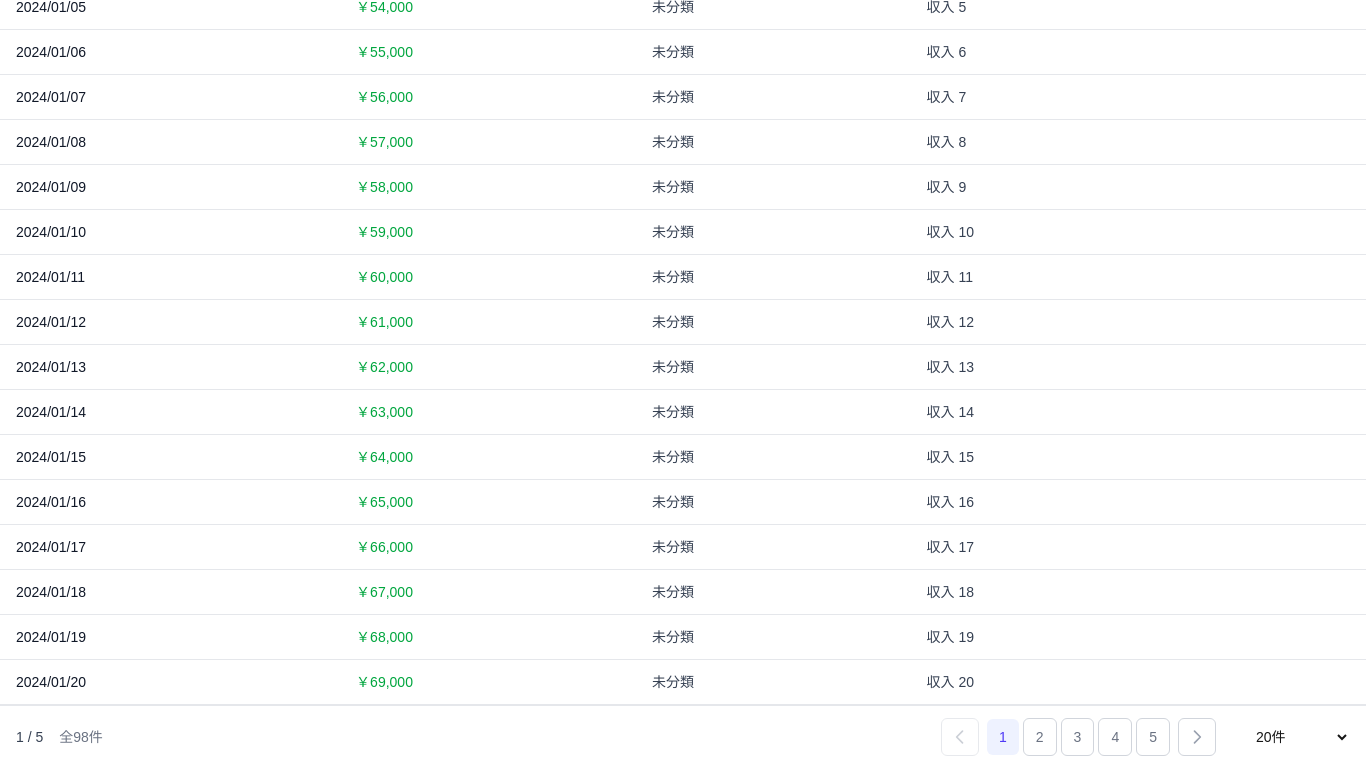
Test: IncomeList with Pagination › ページネーション統合 › 次のページボタンをクリックすると2ページ目のデータが表示される
The image size is (1366, 768).
(page scrolled)
// 次のページボタンをクリック
What coordinates should you click on to do the following:
click the button named "次のページ"
I would click on:
 (1197, 737)
Its box is [1178, 718, 1216, 756].
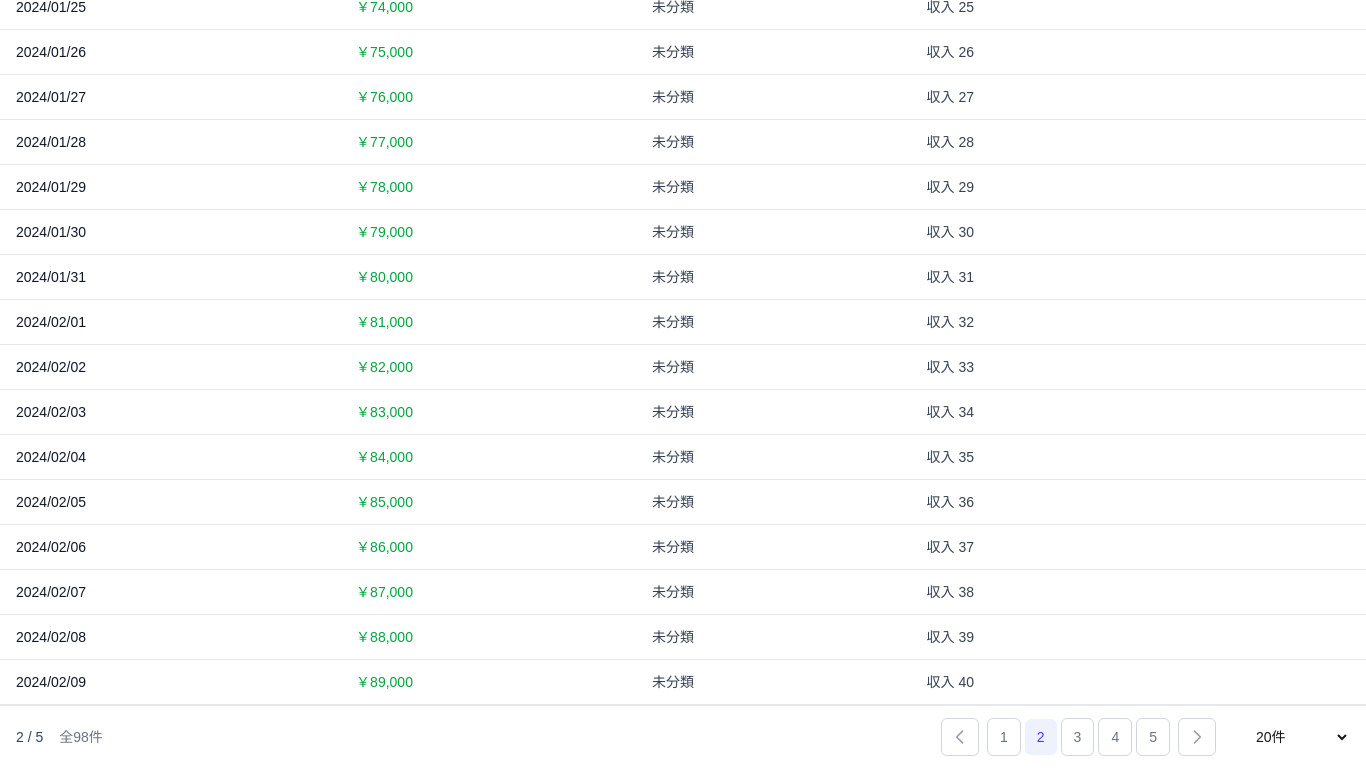
Expected: the text "収入 1" is gone
Expected: the text "2 / 5" is shown, [16, 727, 43, 747]
